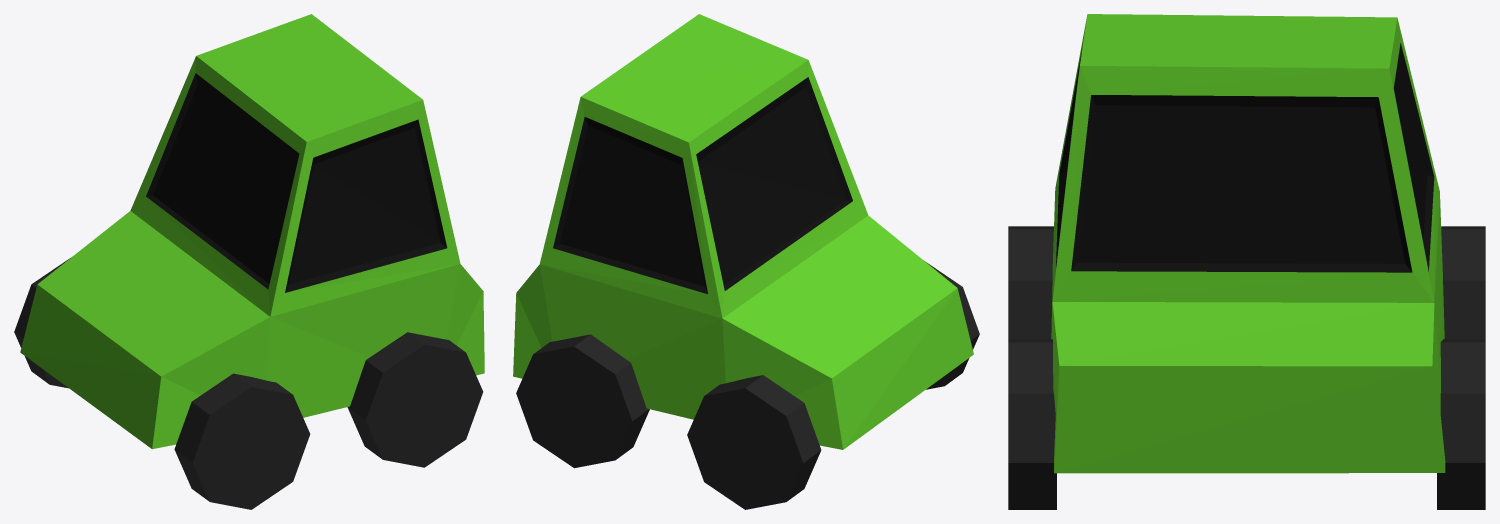
The model's file is cars_01.dae.
3 views of the same model, side by side, from view 1: azimuth 30°, elevation 25°; view 2: azimuth 150°, elevation 25°; view 3: azimuth 270°, elevation 25° (orthographic). The views are drawn at different scales.
Parts seen in each view (by area): view 1: Cube.003, Circle; view 2: Cube.003, Circle; view 3: Cube.003, Circle.
Part boxes in pixels (x1=…): Cube.003: x1=20, y1=14, x2=484, y2=449; Circle: x1=14, y1=258, x2=483, y2=509; Cube.003: x1=513, y1=14, x2=973, y2=449; Circle: x1=516, y1=261, x2=979, y2=509; Cube.003: x1=1051, y1=14, x2=1445, y2=473; Circle: x1=1008, y1=226, x2=1485, y2=509.
Bounding box in the file's own units: 1 × 0.9483 × 1.
